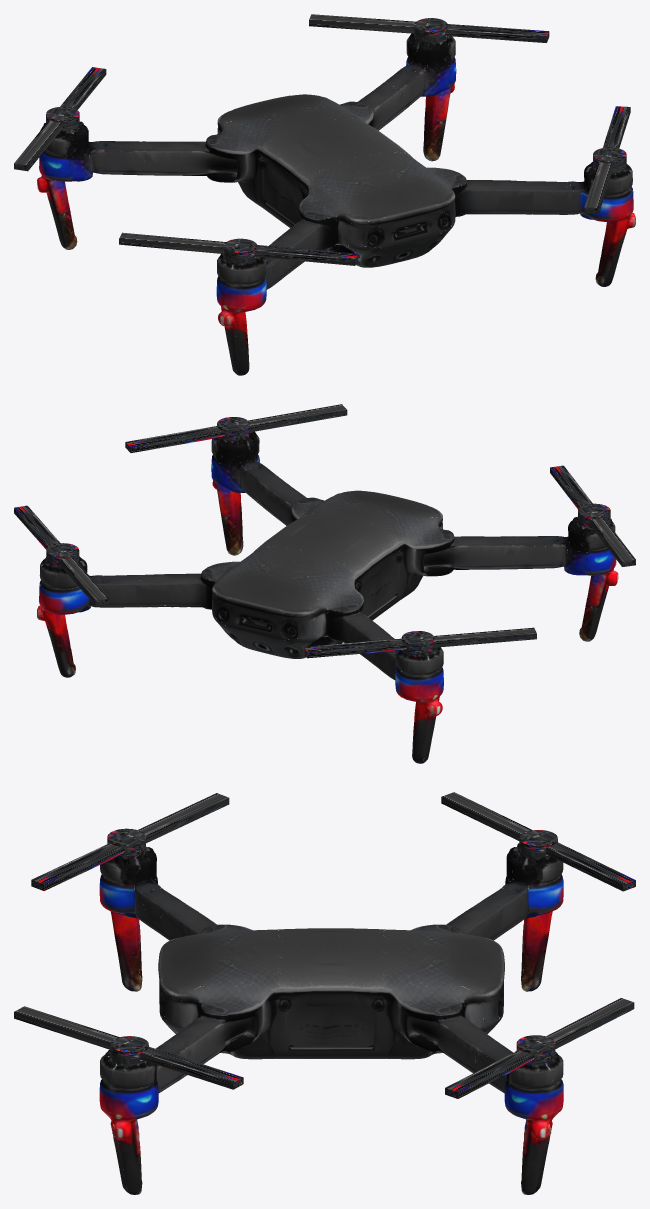
File: doron.glb
The picture shows the model from 3 angles, top to bottom: view 1: azimuth 30°, elevation 25°; view 2: azimuth 150°, elevation 25°; view 3: azimuth 270°, elevation 25°; orthographic projection. The views are drawn at different scales.
Parts seen in each view (by area): view 1: hontai, pera1, pera2, pera4, pera3; view 2: hontai, pera4, pera3, pera2, pera1; view 3: hontai, pera3, pera1, pera4, pera2.
Part boxes in pixels (bbox=[...]): hontai: bbox=[37, 33, 635, 375]; pera1: bbox=[119, 232, 358, 265]; pera2: bbox=[309, 14, 549, 44]; pera4: bbox=[14, 67, 106, 171]; pera3: bbox=[584, 106, 630, 213]; hontai: bbox=[37, 431, 618, 763]; pera4: bbox=[304, 627, 536, 658]; pera3: bbox=[125, 404, 347, 452]; pera2: bbox=[14, 505, 109, 605]; pera1: bbox=[550, 465, 635, 566]; hontai: bbox=[99, 843, 563, 1194]; pera3: bbox=[14, 1006, 243, 1089]; pera1: bbox=[31, 793, 229, 890]; pera4: bbox=[441, 792, 635, 891]; pera2: bbox=[445, 998, 634, 1098].
Bounding box in the file's own units: 0.9132 × 0.2149 × 0.7989.
1 material, 1 textured.
